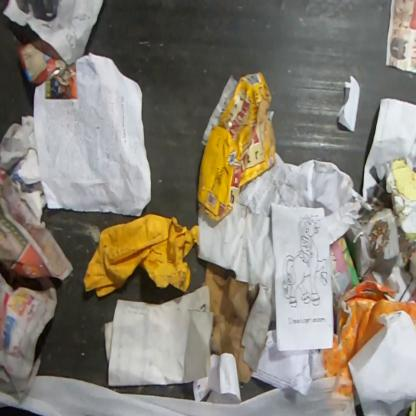cardboard: (196, 71, 276, 223), (202, 261, 273, 384)
